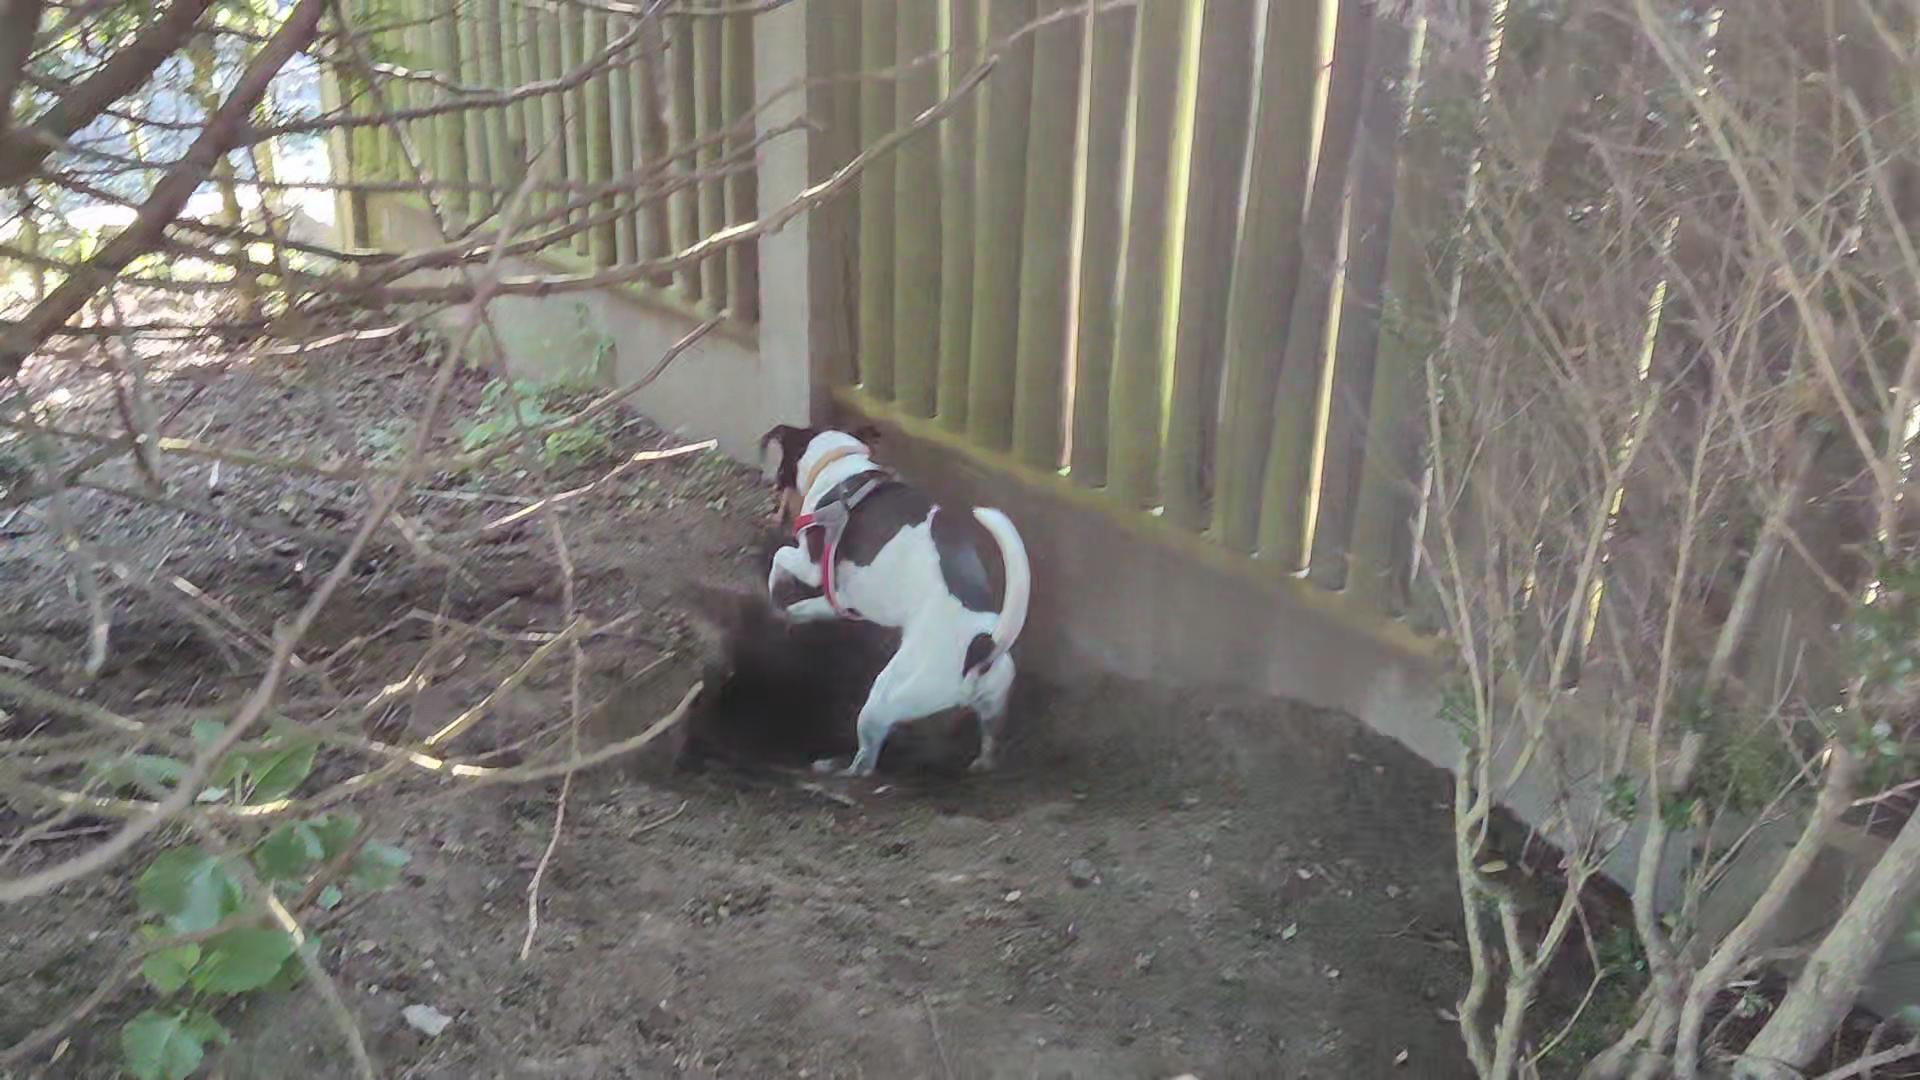Dog: (740, 411, 1046, 786)
